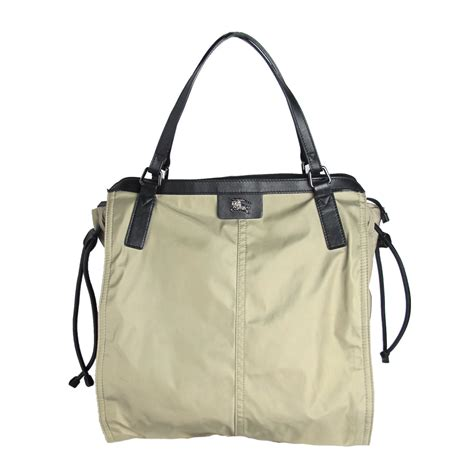nylon: (95, 190, 385, 446)
